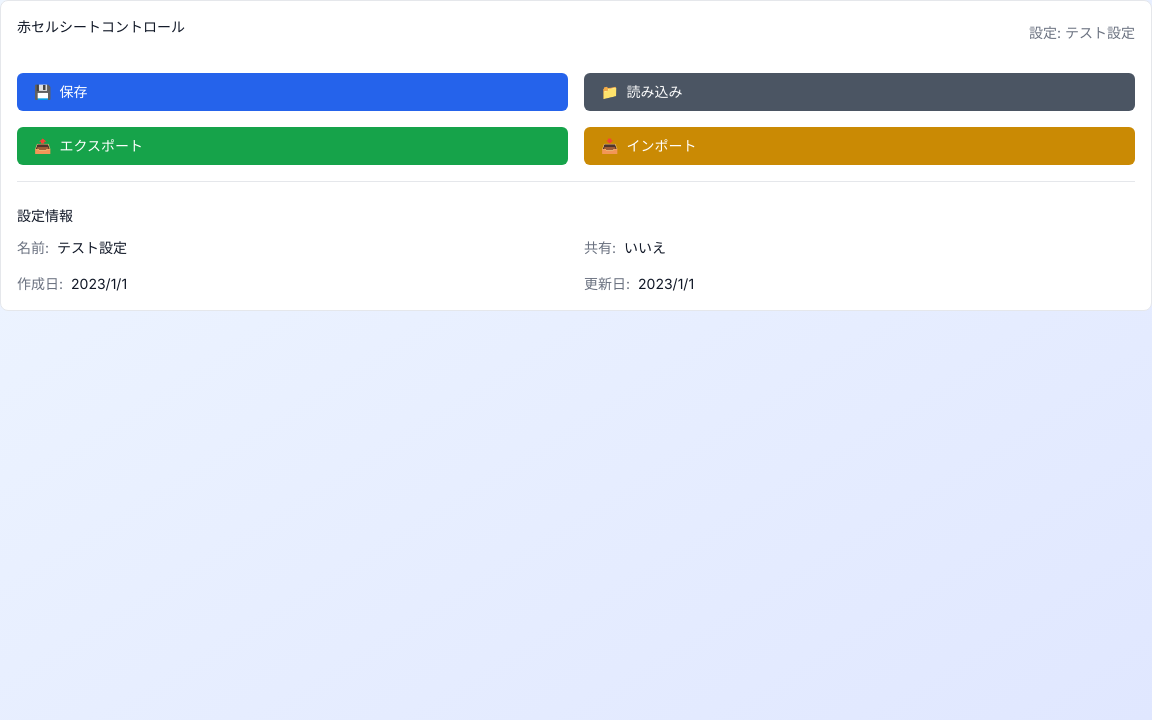
Test case: RedactionControls › エラーハンドリング › should handle save error
This screenshot has width=1152, height=720.
Click the button with test id "save-button" at {"x": 43, "y": 92}, box x1=17 y1=73 x2=568 y2=111
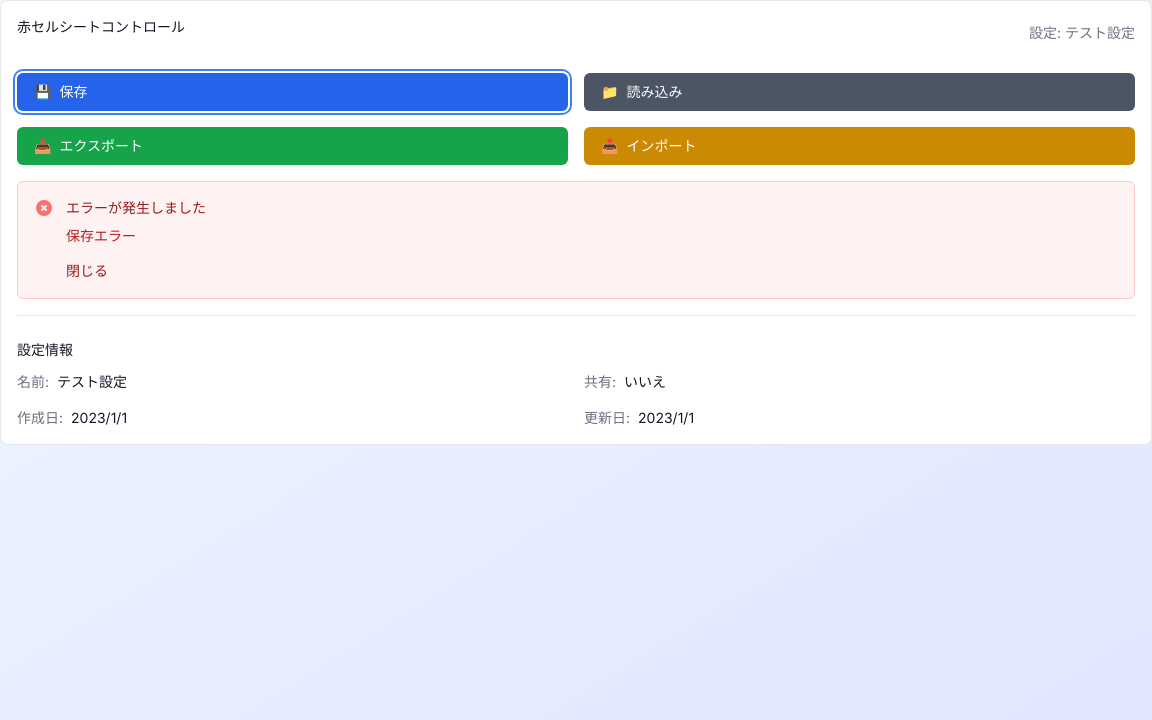
Expected: the element with test id "error-message" is shown, x1=17 y1=181 x2=1135 y2=299
Expected: the text "保存エラー" is shown, x1=66 y1=227 x2=136 y2=244
